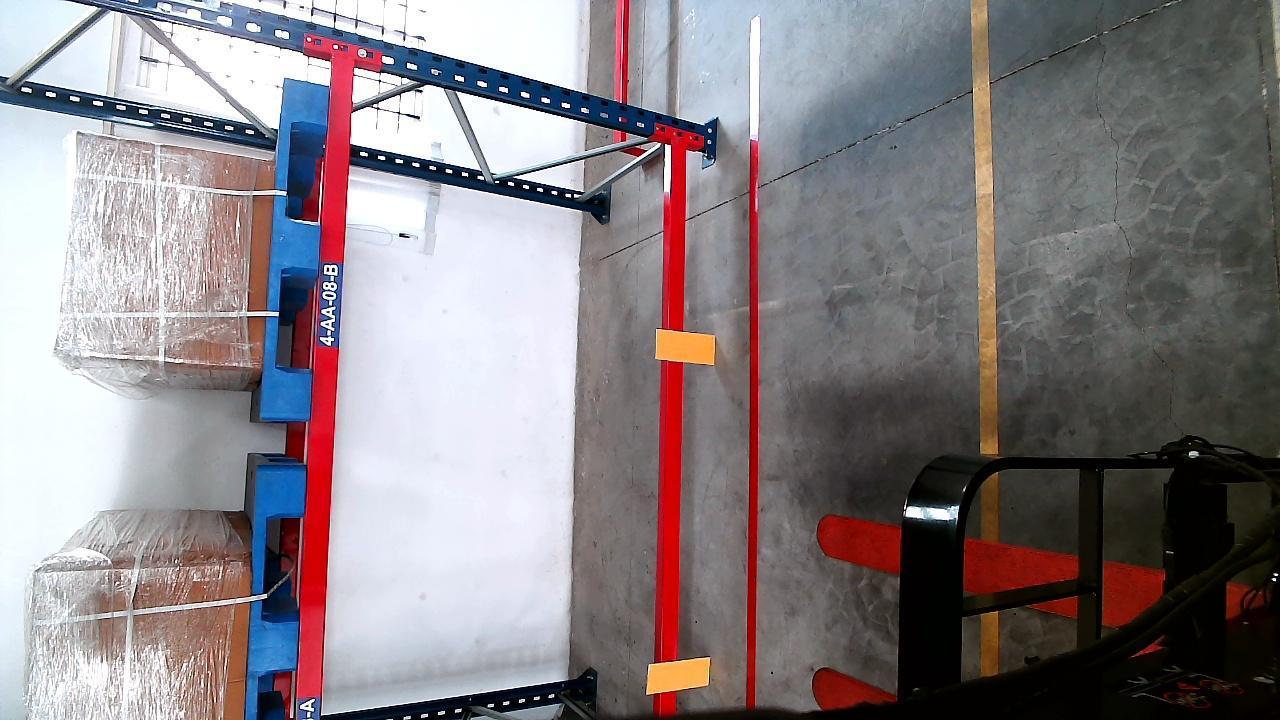red_line: (739, 134, 763, 701)
yellow_line: (972, 0, 1002, 456)
